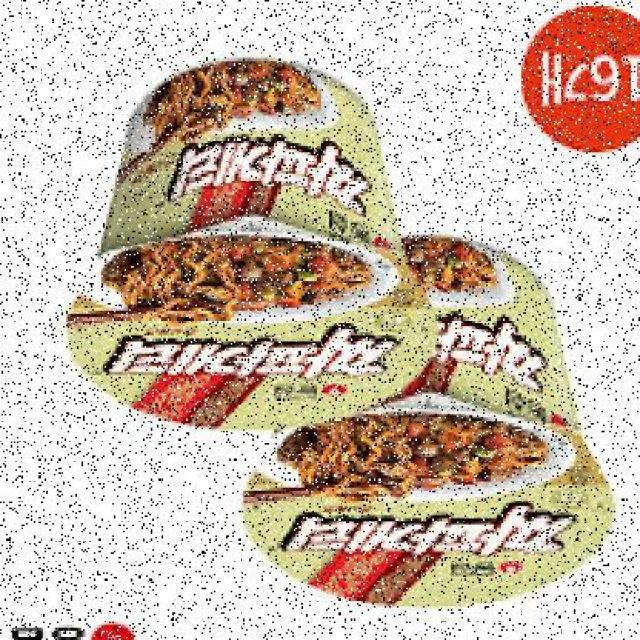Miscellaneous: (242, 234, 608, 616), (68, 57, 432, 430)
